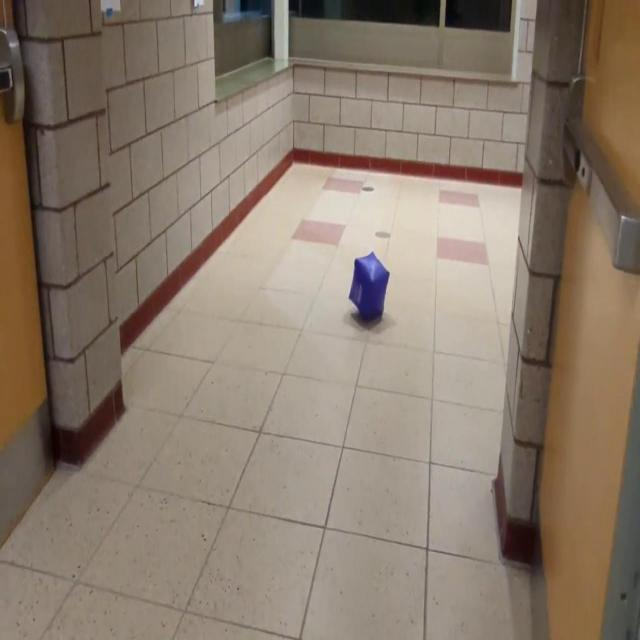frc_cube: (347, 251, 389, 318)
